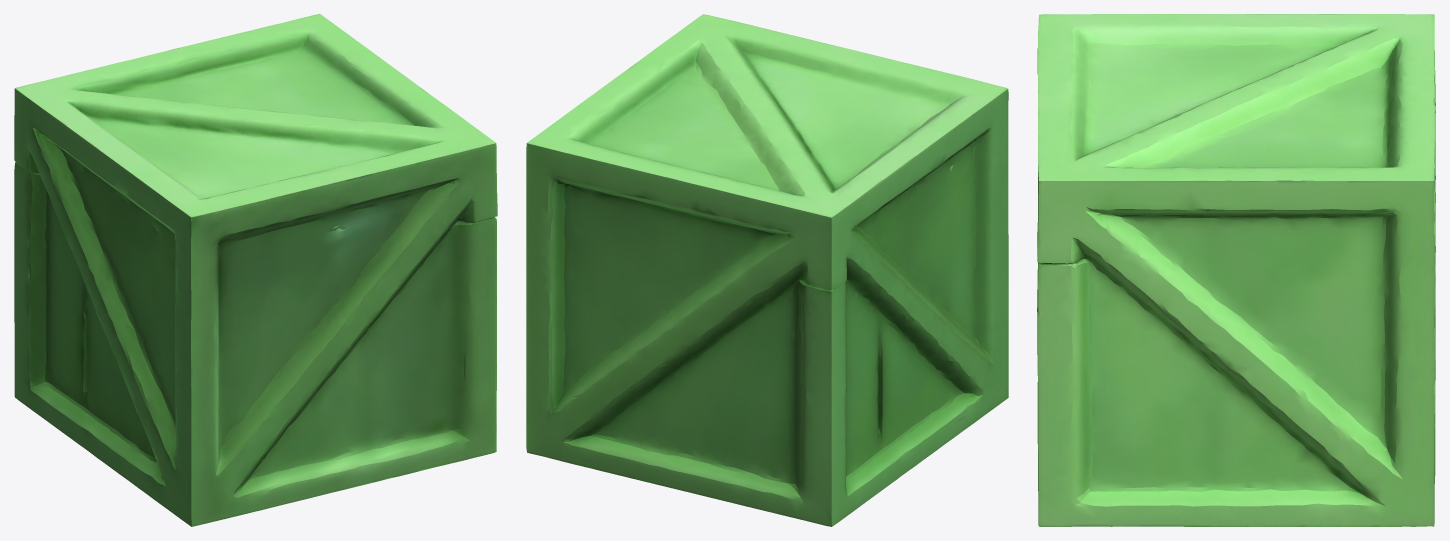
File: wooden_crate.glb
3 renders of one model, left to right at view 1: azimuth 30°, elevation 25°; view 2: azimuth 150°, elevation 25°; view 3: azimuth 270°, elevation 25°, orthographic. The views are drawn at different scales.
Visible parts, largest first — view 1: wooden_crate; view 2: wooden_crate; view 3: wooden_crate.
Boxes of the visible parts, <box> form: wooden_crate: <box>14,14,497,526</box>; wooden_crate: <box>526,14,1008,526</box>; wooden_crate: <box>1037,14,1435,526</box>.
Bounding box in the file's own units: 0.9665 × 0.9314 × 0.9681.
1 material, 1 textured.
